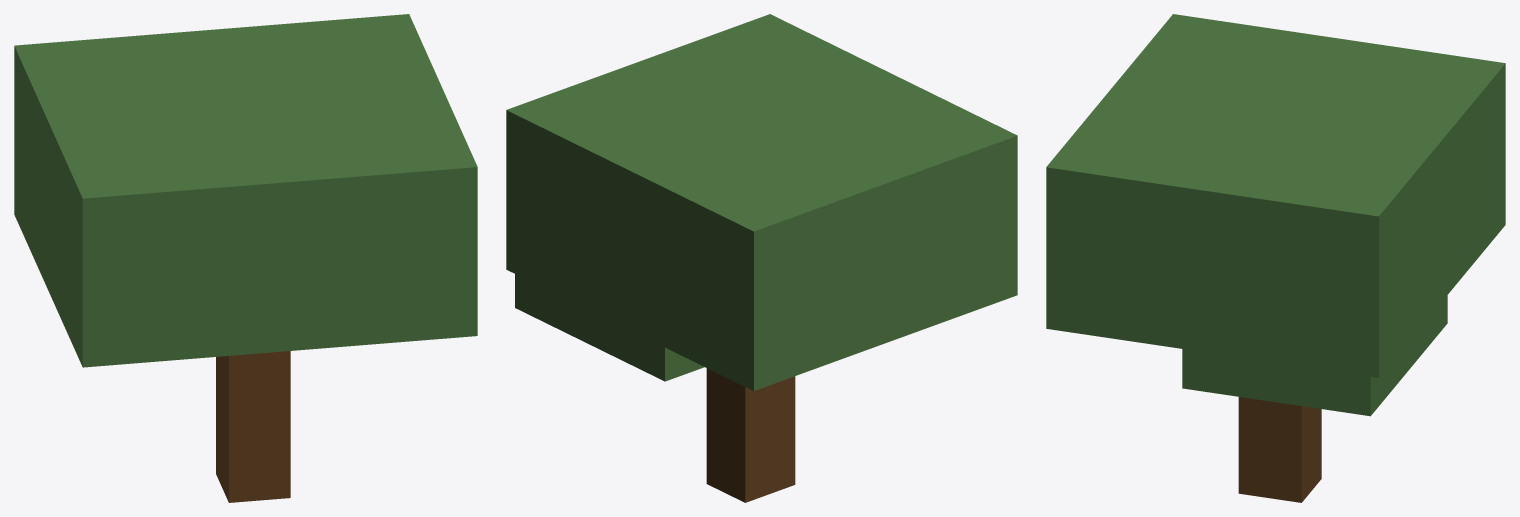
File: trees5.gltf
3 renders of one model, left to right at view 1: azimuth 30°, elevation 25°; view 2: azimuth 150°, elevation 25°; view 3: azimuth 270°, elevation 25°, orthographic. The views are drawn at different scales.
Visible parts, largest first — view 1: Cube.021, Cube.020; view 2: Cube.021, Cube.020, Cube.019; view 3: Cube.021, Cube.019, Cube.020.
Part boxes in pixels (left/top/right/bottom): Cube.021: left=14, top=14, right=477, bottom=367; Cube.020: left=216, top=351, right=290, bottom=502; Cube.021: left=506, top=14, right=1017, bottom=390; Cube.020: left=706, top=368, right=795, bottom=502; Cube.019: left=515, top=274, right=704, bottom=381; Cube.021: left=1046, top=14, right=1505, bottom=377; Cube.019: left=1182, top=295, right=1447, bottom=416; Cube.020: left=1238, top=397, right=1321, bottom=502.
Size of the model in its own units: 0.4204 by 0.355 by 0.4033.
